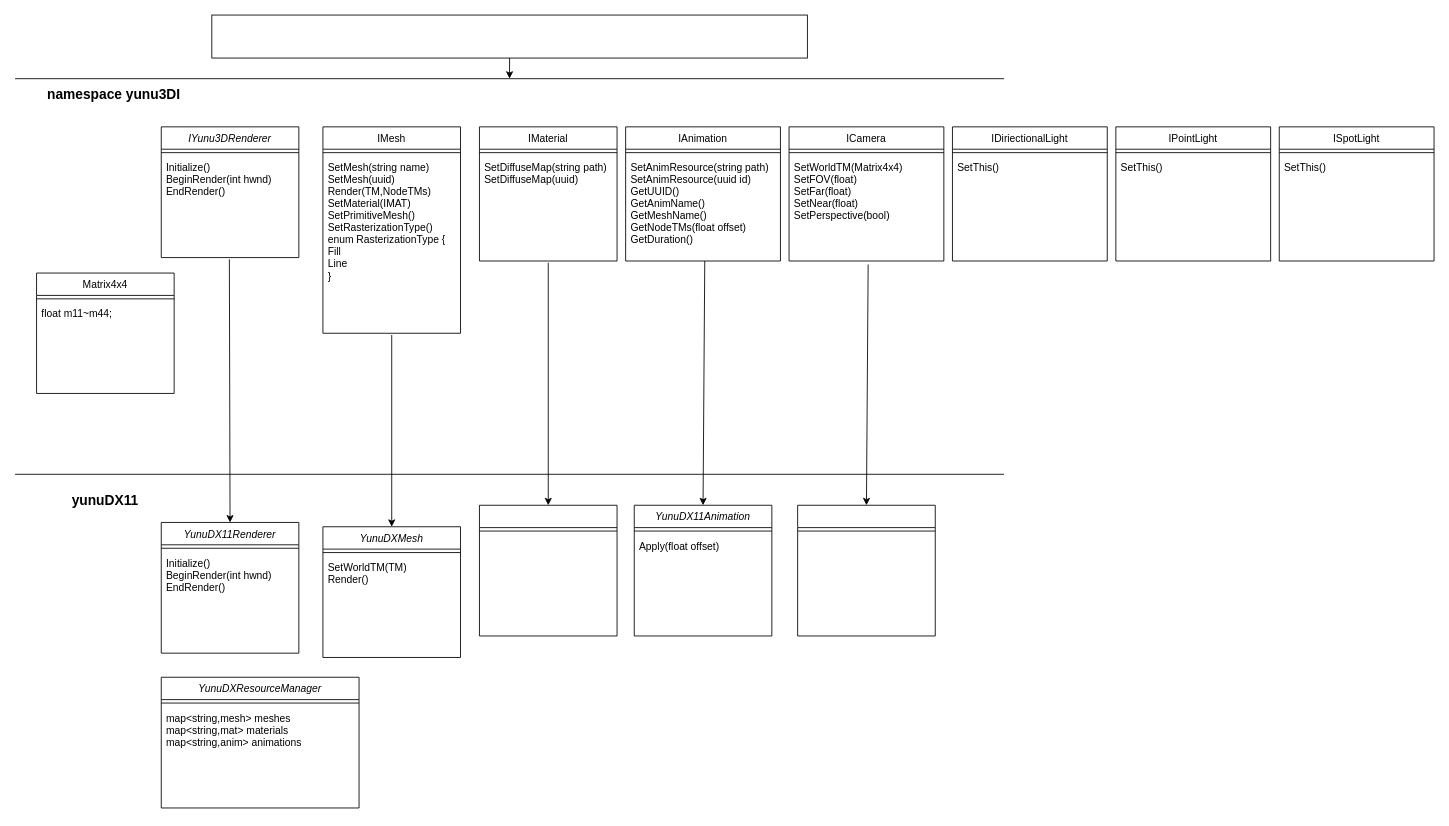
This 1449x826 diagram has some shape labels left out. The shapes that lost their labels are listed below. From the top down, each one's centre as x and y in pixels, then its label:
(x=509, y=36): YunutyEngine
(x=548, y=570): YunuDX11Material
(x=866, y=570): YunuDX11Camera
